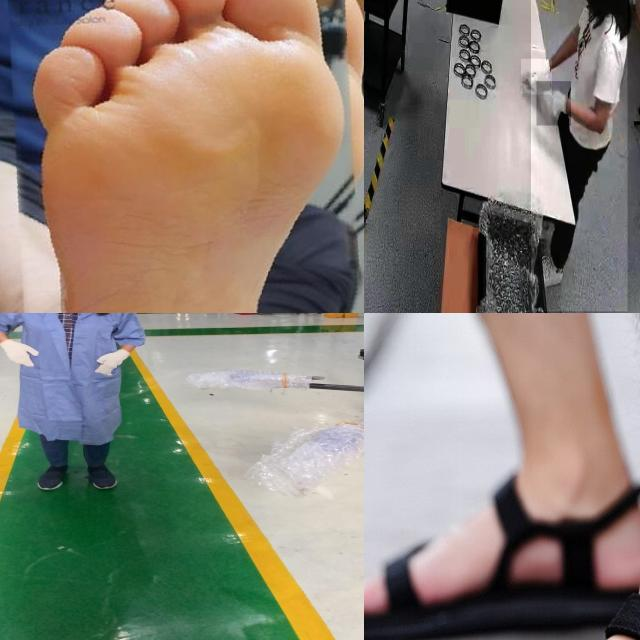Barefoots: (17, 0, 345, 313)
Sandals: (369, 569, 640, 640)
hand_glove: (537, 81, 571, 126), (0, 338, 45, 372), (90, 348, 133, 376), (521, 59, 552, 94)
person: (0, 313, 172, 500), (531, 0, 628, 312)
shoes: (76, 459, 122, 492), (29, 461, 74, 493)
